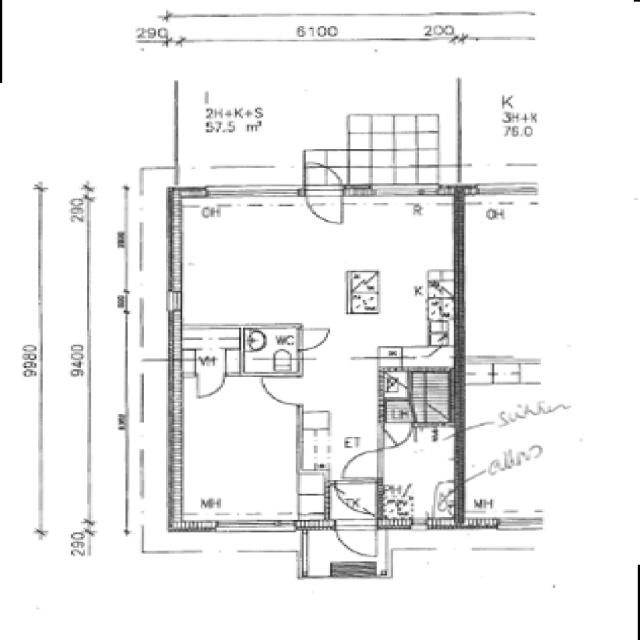door: (238, 323, 310, 372), (300, 163, 349, 230), (329, 517, 381, 564), (254, 371, 307, 408), (337, 448, 388, 483), (329, 480, 378, 516), (376, 417, 416, 453), (293, 323, 336, 355), (190, 370, 230, 402)
window: (352, 178, 454, 208), (193, 182, 305, 208), (208, 514, 298, 536), (489, 508, 543, 538), (468, 179, 538, 200), (162, 283, 186, 318)
zone: (171, 197, 467, 325), (167, 372, 316, 526), (380, 428, 459, 526), (238, 324, 303, 376)
